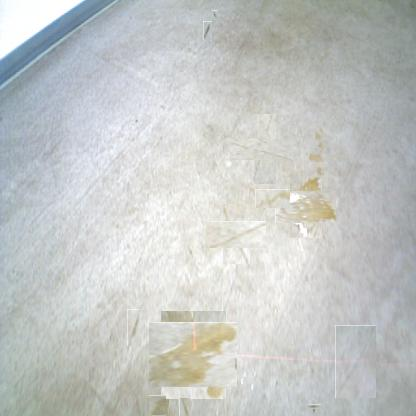liquid: (155, 317, 232, 393), (283, 184, 329, 231), (215, 213, 258, 256), (308, 120, 326, 174), (255, 189, 290, 208), (147, 396, 167, 416), (179, 397, 190, 416)
mark: (335, 325, 376, 398), (242, 126, 288, 172), (127, 309, 140, 346), (203, 21, 212, 40), (310, 402, 319, 412), (212, 10, 218, 19), (188, 248, 194, 256), (132, 116, 138, 124)
